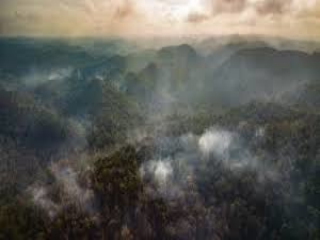smoke: (132, 124, 247, 197)
